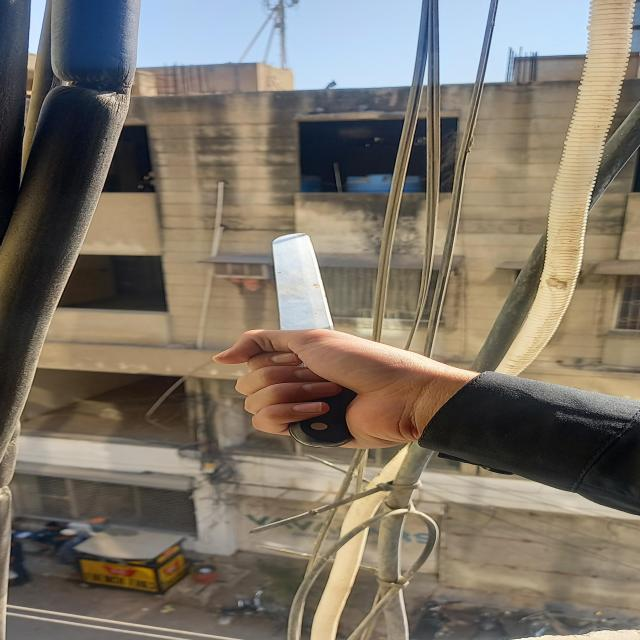faca: (274, 233, 350, 444)
